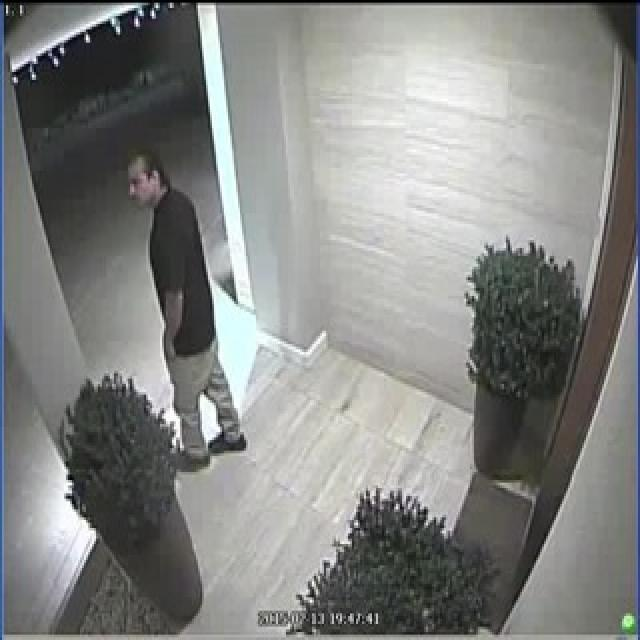thief: (119, 148, 246, 463)
